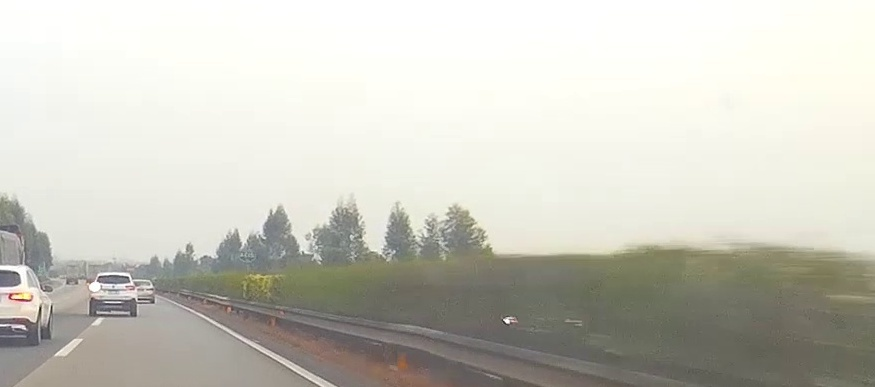L_light: (91, 285, 102, 289)
R_light: (125, 285, 136, 290)
T_light: (109, 274, 119, 276)
day-left: (89, 272, 137, 317)
